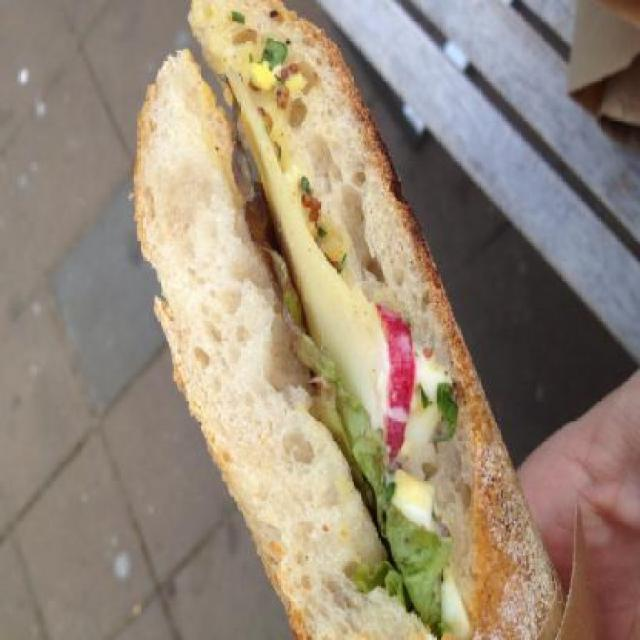Bread: (128, 46, 434, 640)
